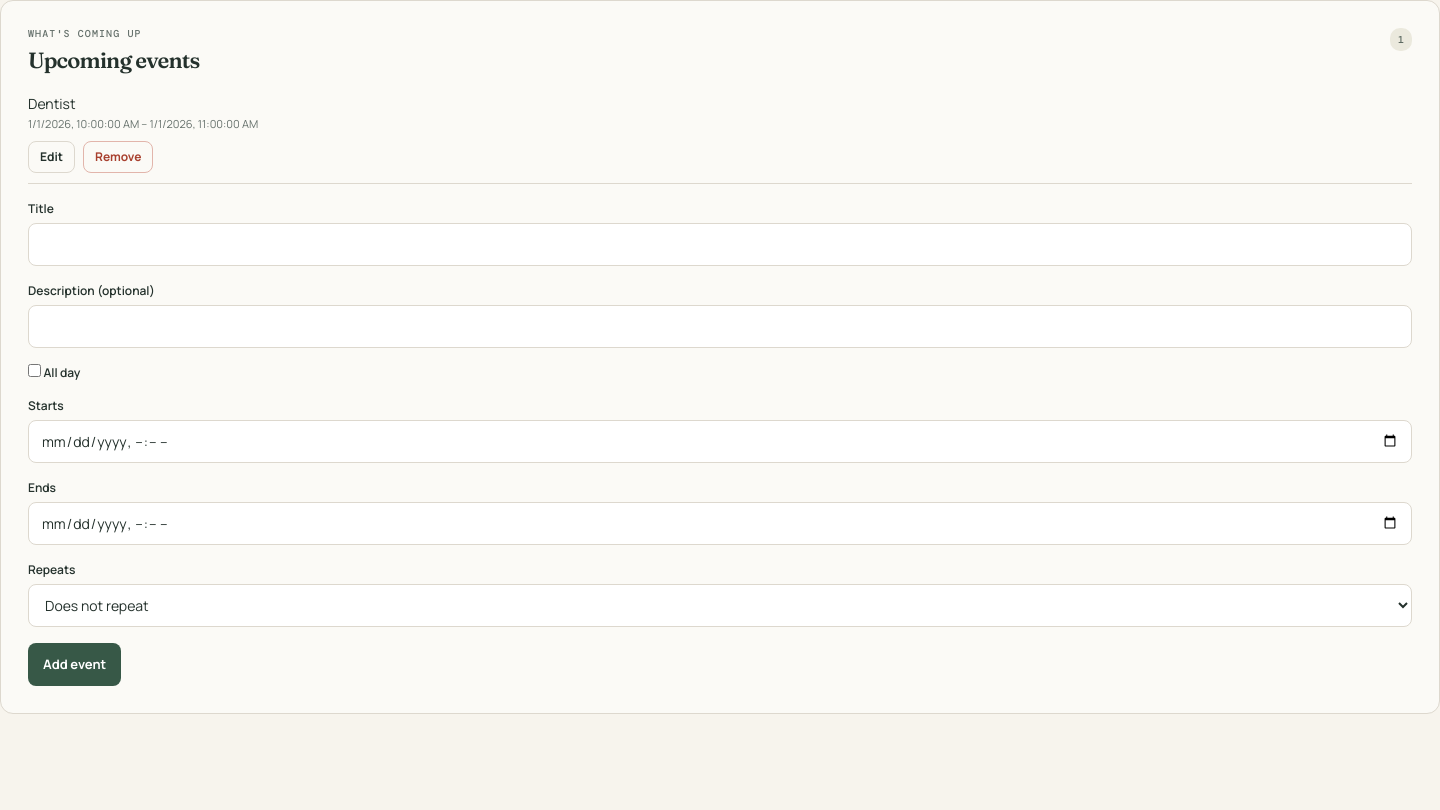
it: CalendarPanel › deletes an event
Click the button with aria-label "remove dentist".
click(118, 156)  # box [83,140,154,172]
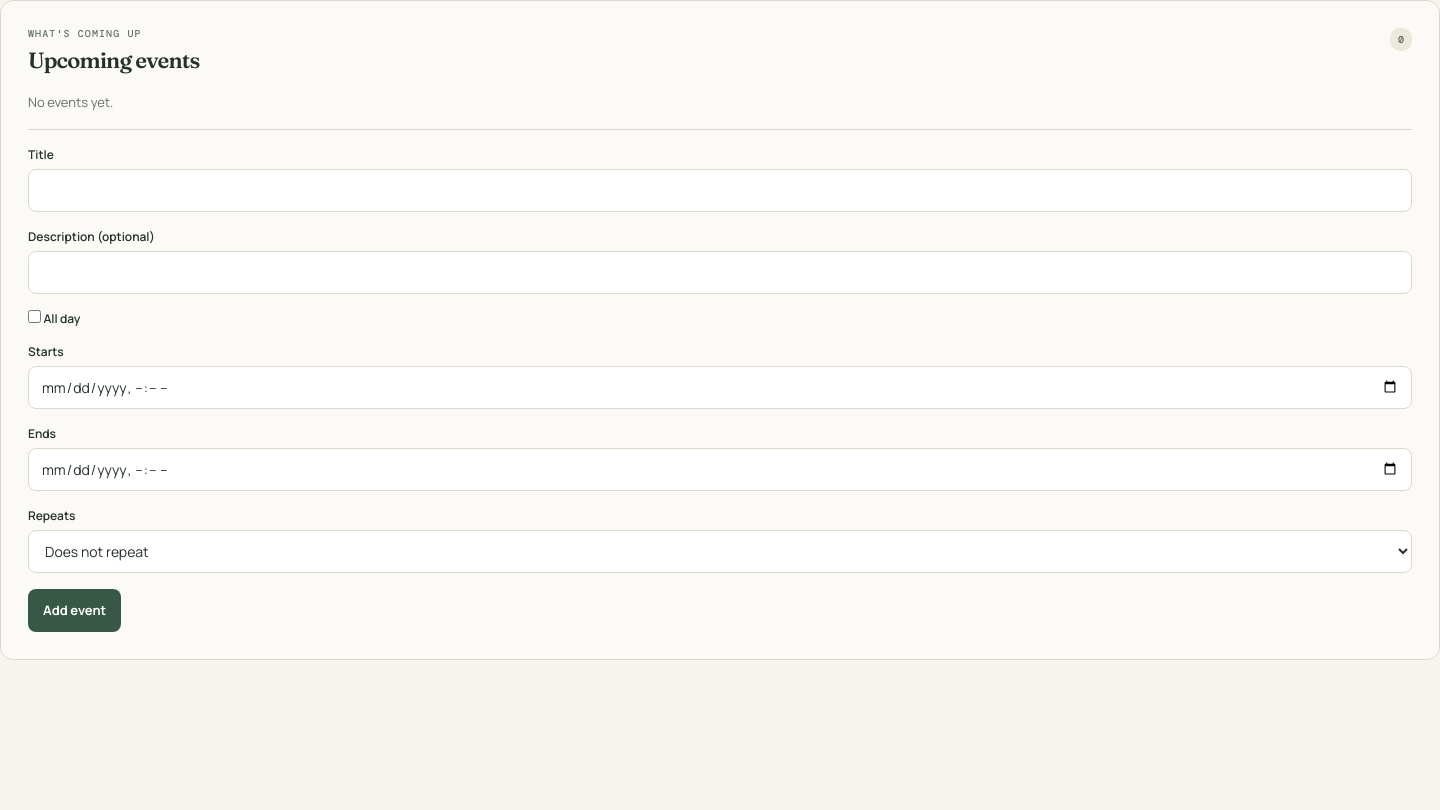
Check: the text "Dentist" is gone
